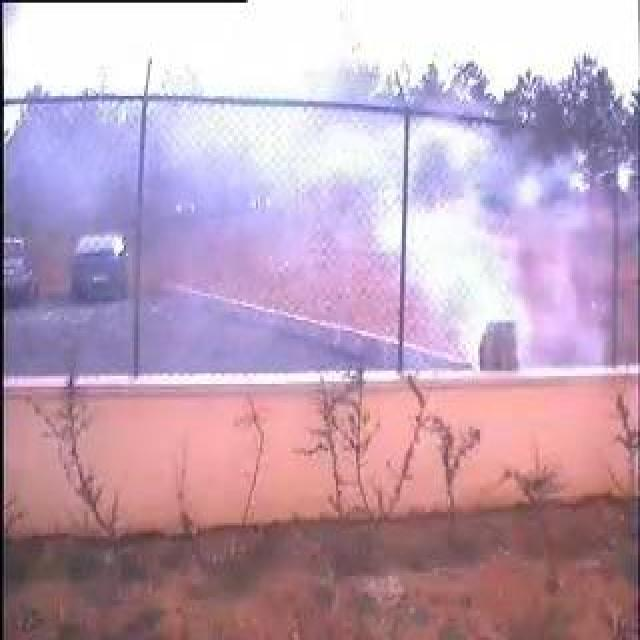Smoke: (246, 98, 584, 362)
